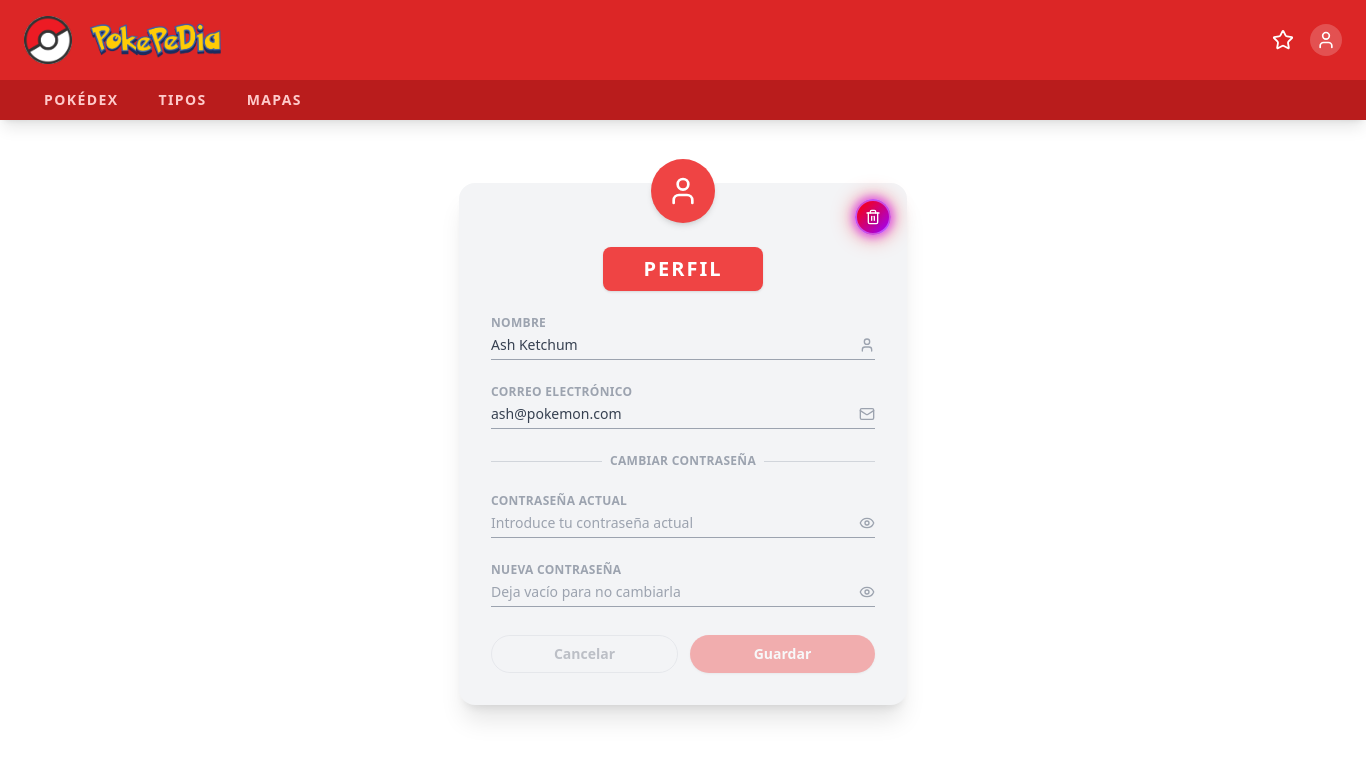
it: Perfil › abre el modal de confirmación al hacer clic en el botón papelera
The image size is (1366, 768).
Step 1. Click the button titled "Eliminar cuenta" → (873, 217), box [855,199,891,235]
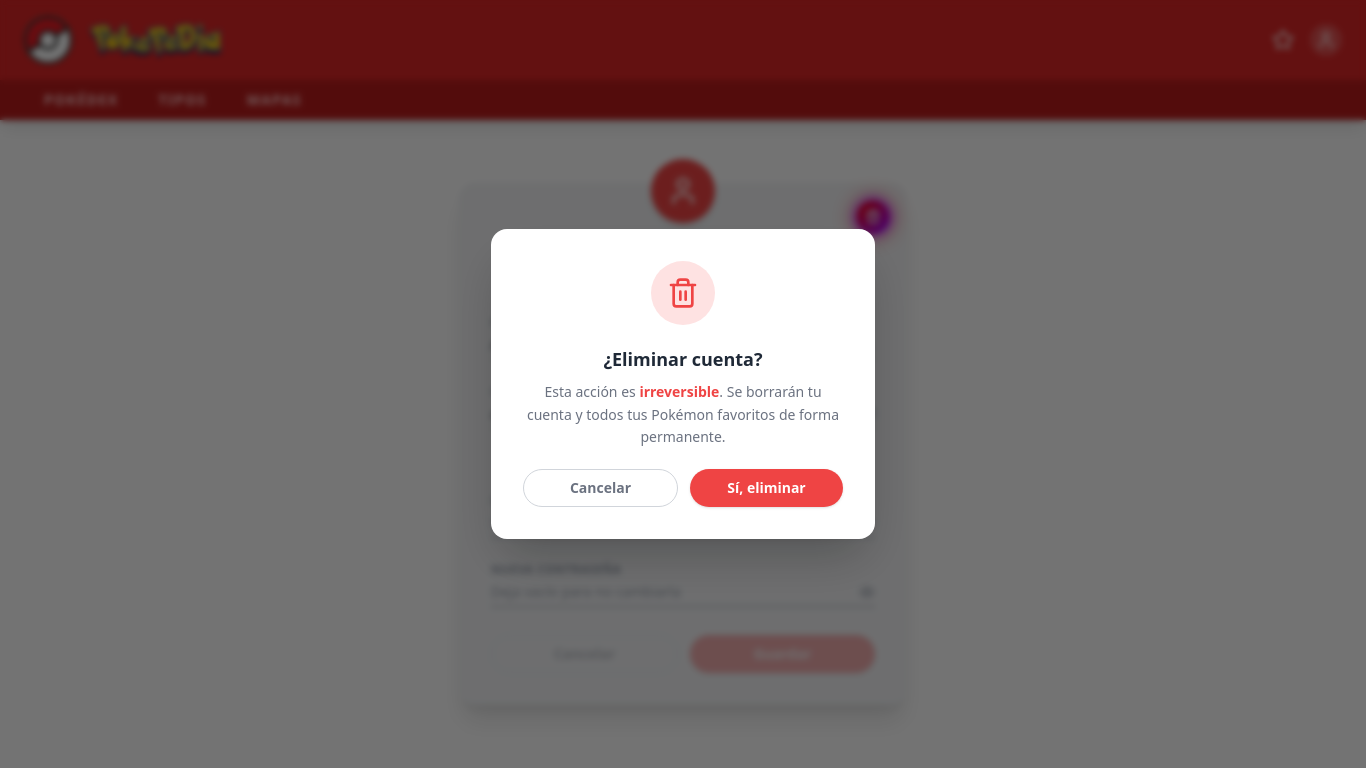
Now the heading "¿Eliminar cuenta?" is shown, box [603,347,763,371]
